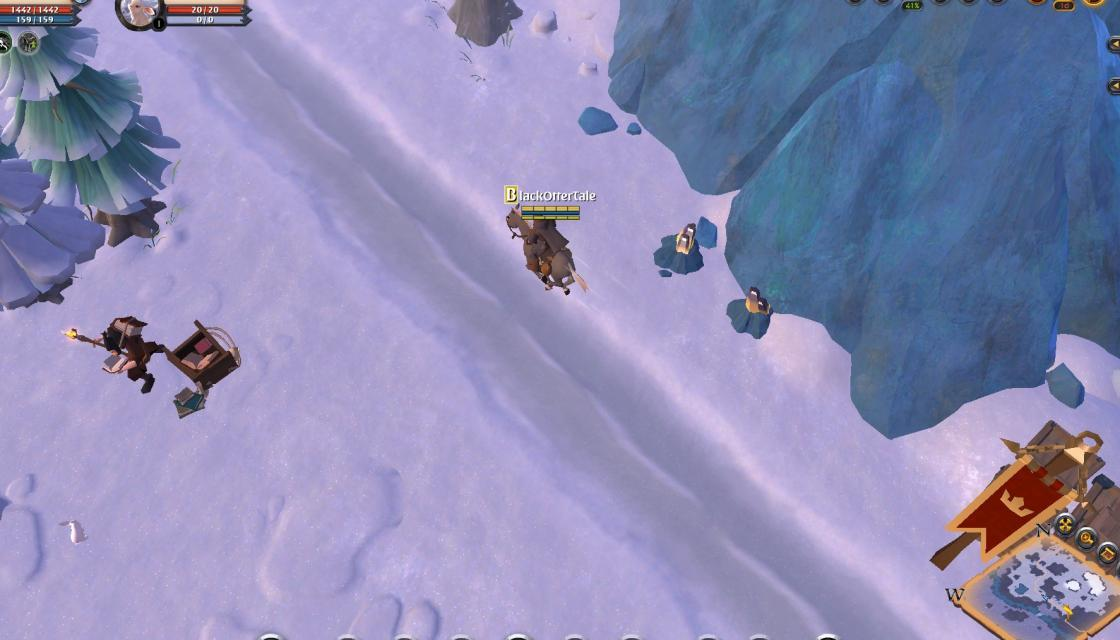copperore: (650, 221, 706, 271), (719, 288, 775, 338)
